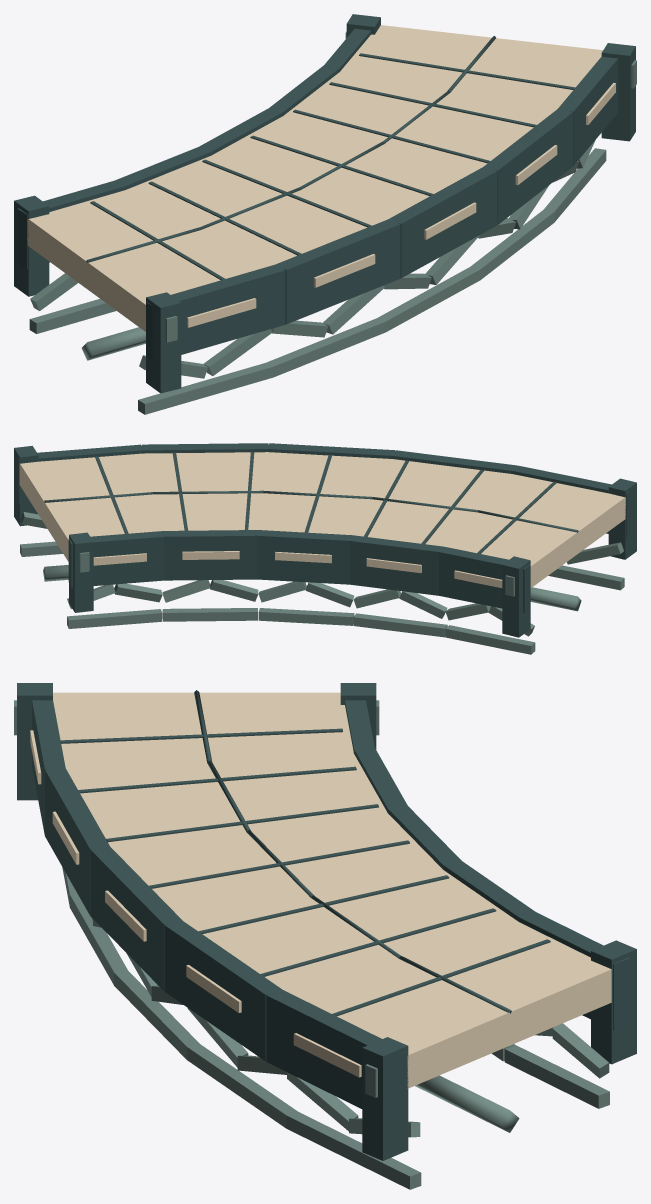
Rendered from Curve_W45_lab2.glb.
3 renders of one model, top to bottom at view 1: azimuth 30°, elevation 25°; view 2: azimuth 150°, elevation 25°; view 3: azimuth 270°, elevation 25°, orthographic. The views are drawn at different scales.
Visible parts, largest first — view 1: Curve_W45; view 2: Curve_W45; view 3: Curve_W45.
Boxes of the visible parts, x1,y1,x2,y2 form: Curve_W45: (14, 14, 636, 414); Curve_W45: (14, 443, 636, 654); Curve_W45: (14, 683, 636, 1189).
Size of the model in its own units: 8.44 by 1.52 by 5.93.
